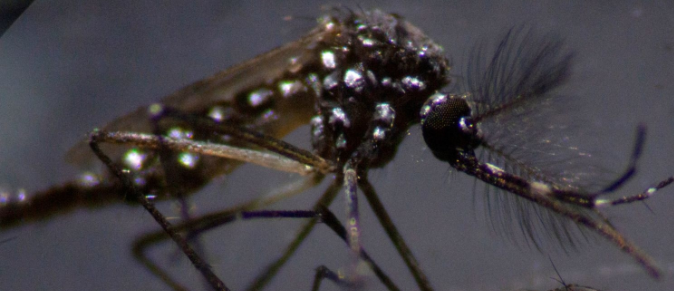dengue_mosquito: (64, 8, 665, 277)
